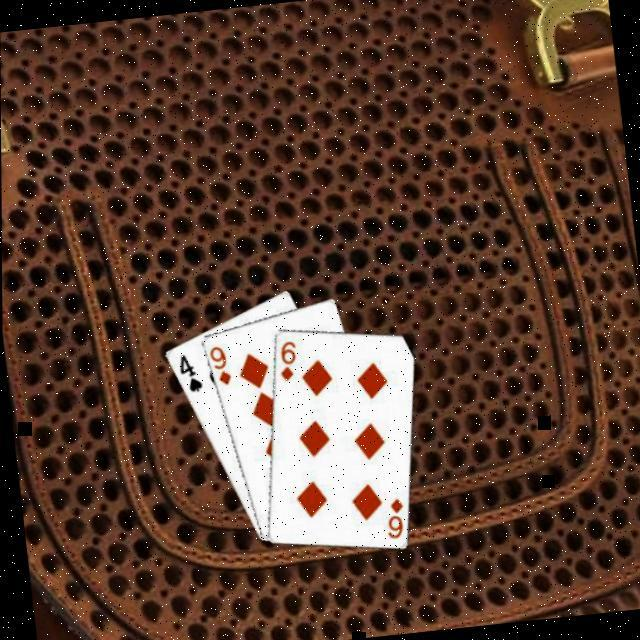4S: (172, 349, 202, 395)
6D: (378, 493, 407, 541), (272, 335, 300, 383)
9D: (204, 340, 232, 388)
